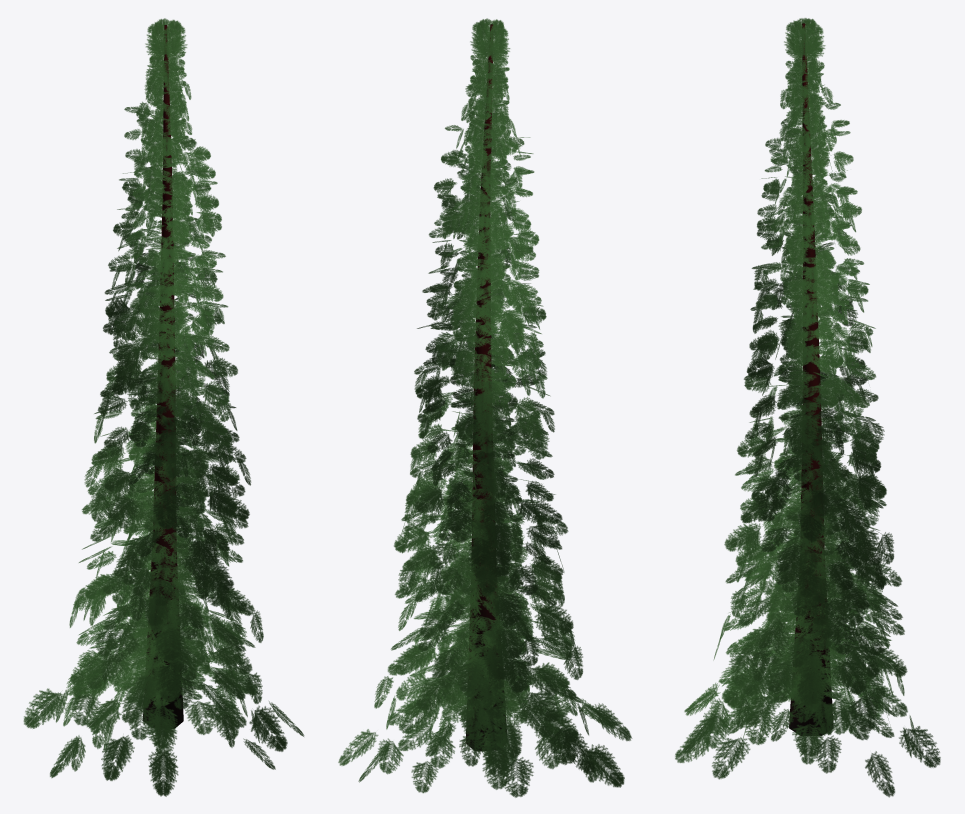
Rendered from spruce_conifer_v01_LOD2.glb.
The picture shows the model from 3 angles, left to right: view 1: azimuth 30°, elevation 25°; view 2: azimuth 150°, elevation 25°; view 3: azimuth 270°, elevation 25°; orthographic projection. The views are drawn at different scales.
Parts seen in each view (by area): view 1: spruce_conifer_v01_LOD2; view 2: spruce_conifer_v01_LOD2; view 3: spruce_conifer_v01_LOD2.
Part boxes in pixels (x1=…): spruce_conifer_v01_LOD2: x1=23, y1=18, x2=304, y2=796; spruce_conifer_v01_LOD2: x1=338, y1=18, x2=632, y2=797; spruce_conifer_v01_LOD2: x1=675, y1=18, x2=940, y2=797.
Bounding box in the file's own units: 8.06 × 23.11 × 8.03.
Materials: 2 (2 with a texture image).
